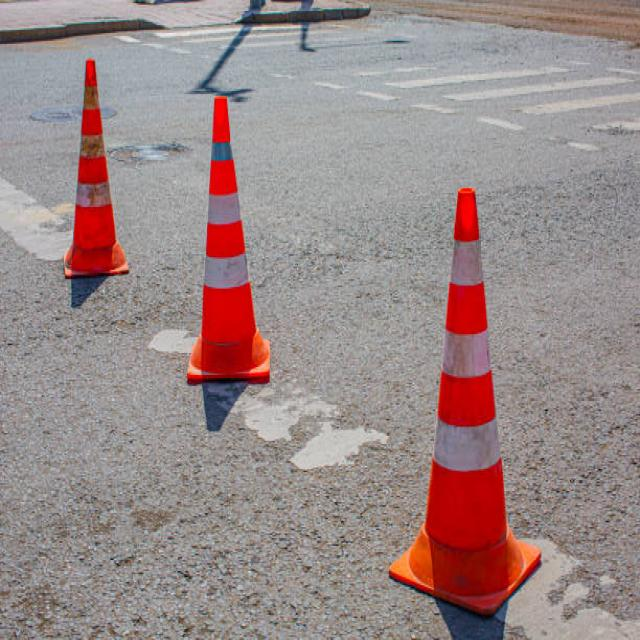Traffic Cone: (380, 157, 552, 633), (162, 68, 290, 410), (30, 22, 150, 316)
